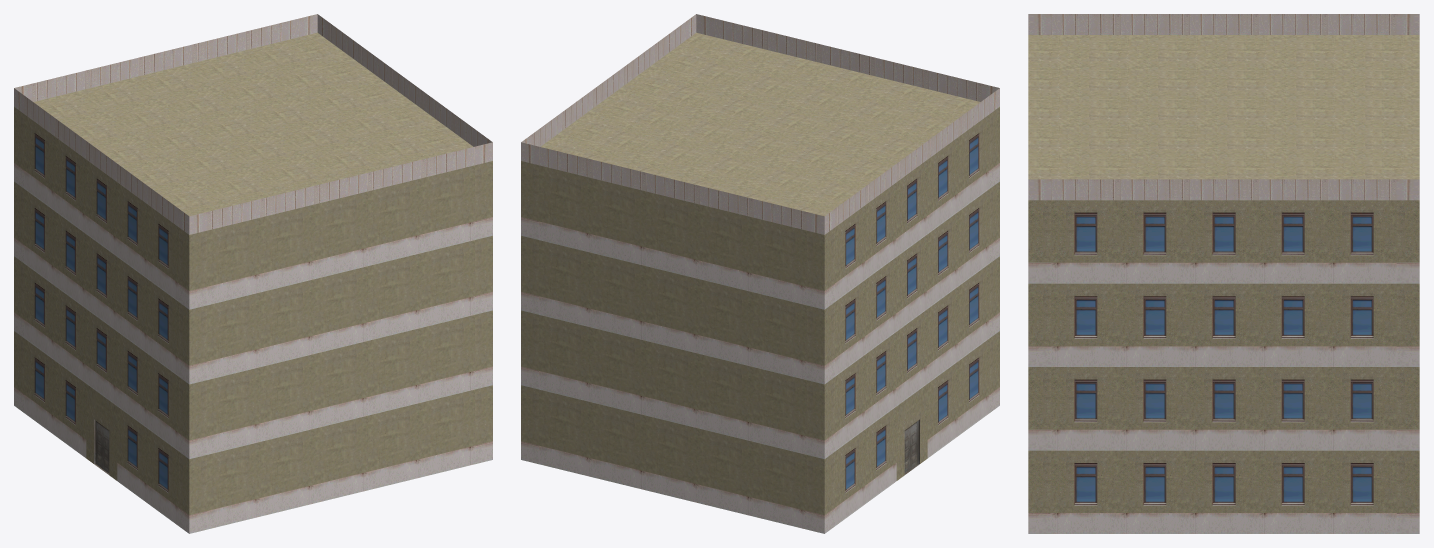
File: Urban_FlatSquareConcreteAlt_Model.fbx
3 renders of one model, left to right at view 1: azimuth 30°, elevation 25°; view 2: azimuth 150°, elevation 25°; view 3: azimuth 270°, elevation 25°, orthographic. The views are drawn at different scales.
Parts seen in each view (by area): view 1: Urban_FlatSquareConcreteAlt_Mesh; view 2: Urban_FlatSquareConcreteAlt_Mesh; view 3: Urban_FlatSquareConcreteAlt_Mesh.
Part boxes in pixels (bbox=[...]): Urban_FlatSquareConcreteAlt_Mesh: bbox=[14, 14, 492, 533]; Urban_FlatSquareConcreteAlt_Mesh: bbox=[521, 14, 999, 533]; Urban_FlatSquareConcreteAlt_Mesh: bbox=[1028, 14, 1419, 533].
Size of the model in its own units: 11.9 by 11.9 by 11.9.
